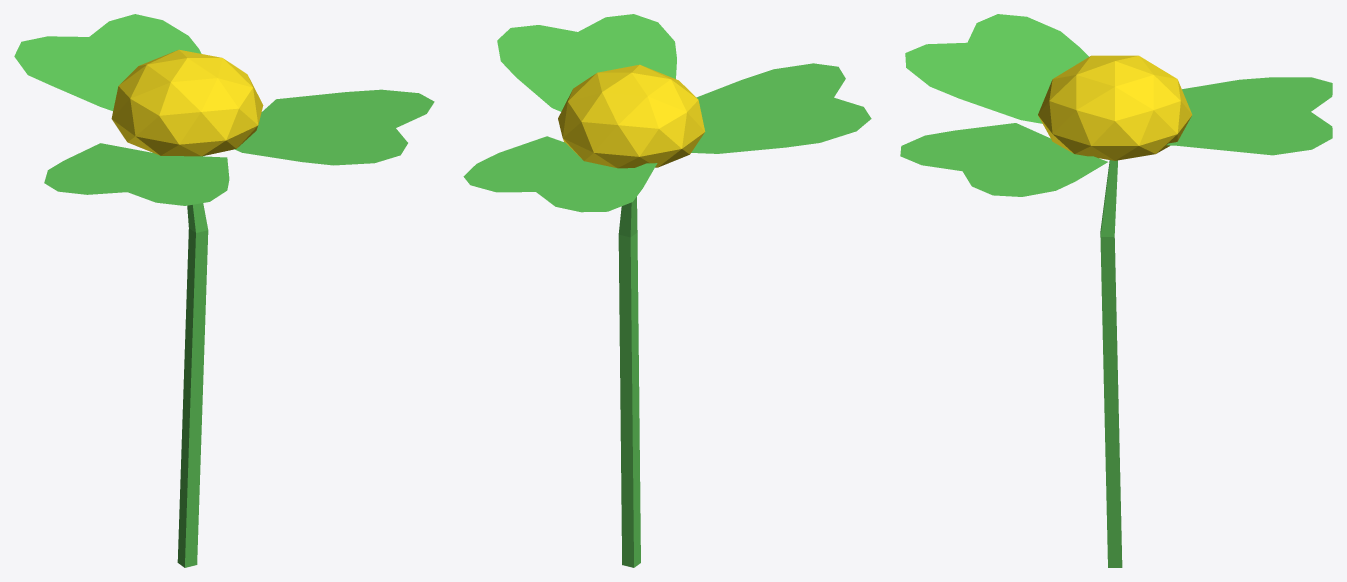
File: floweringclover.glb
3 renders of one model, left to right at view 1: azimuth 30°, elevation 25°; view 2: azimuth 150°, elevation 25°; view 3: azimuth 270°, elevation 25°, orthographic. The views are drawn at different scales.
Parts seen in each view (by area): view 1: floweringClover; view 2: floweringClover; view 3: floweringClover.
Boxes of the visible parts, x1,y1,x2,y2 form: floweringClover: [14, 14, 434, 567]; floweringClover: [463, 14, 871, 567]; floweringClover: [900, 14, 1332, 567].
Size of the model in its own units: 1.78 by 2.29 by 1.78.
